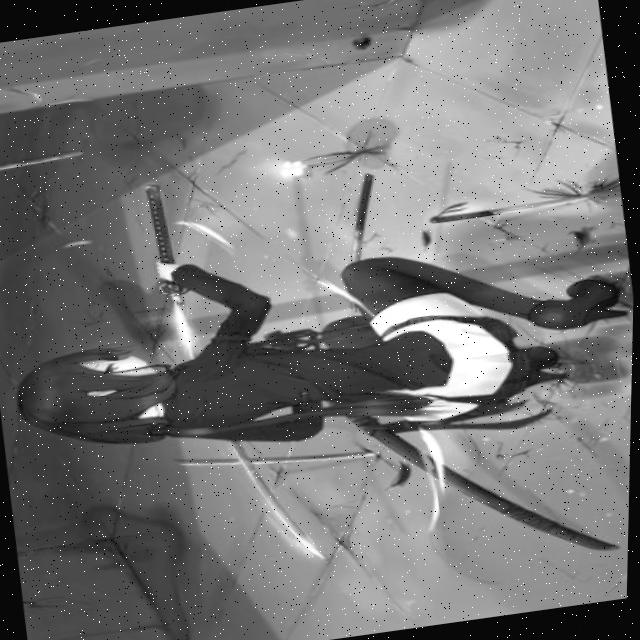knife: (135, 164, 339, 578), (329, 362, 630, 586), (429, 191, 593, 226)
